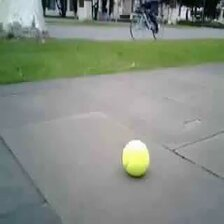tennis: (122, 140, 151, 177)
